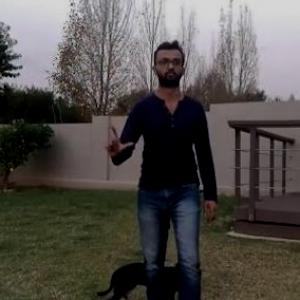land_hand: (100, 117, 136, 160)
